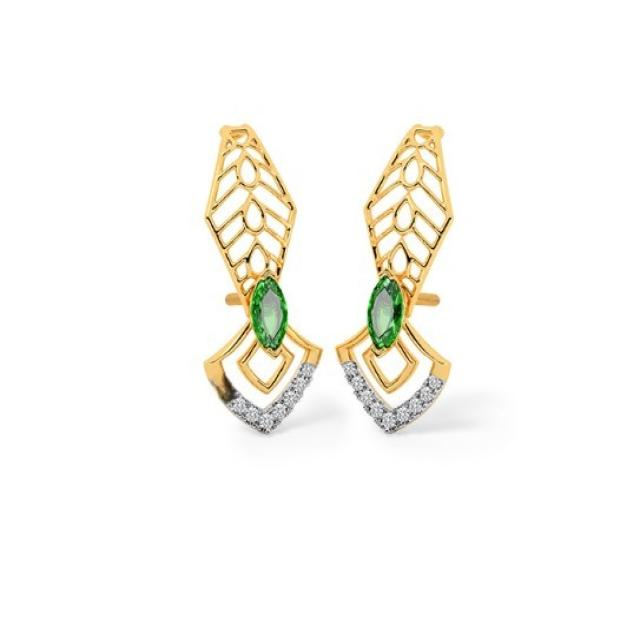missing gem: (209, 373, 240, 405)
